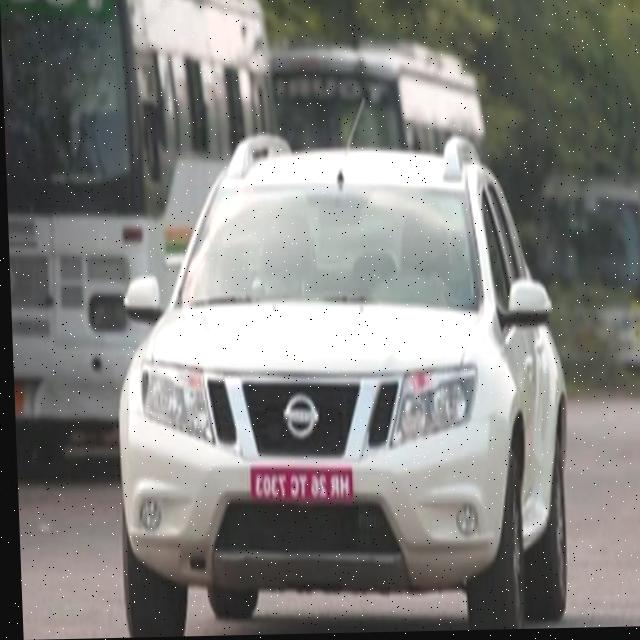plate: (242, 461, 355, 510)
